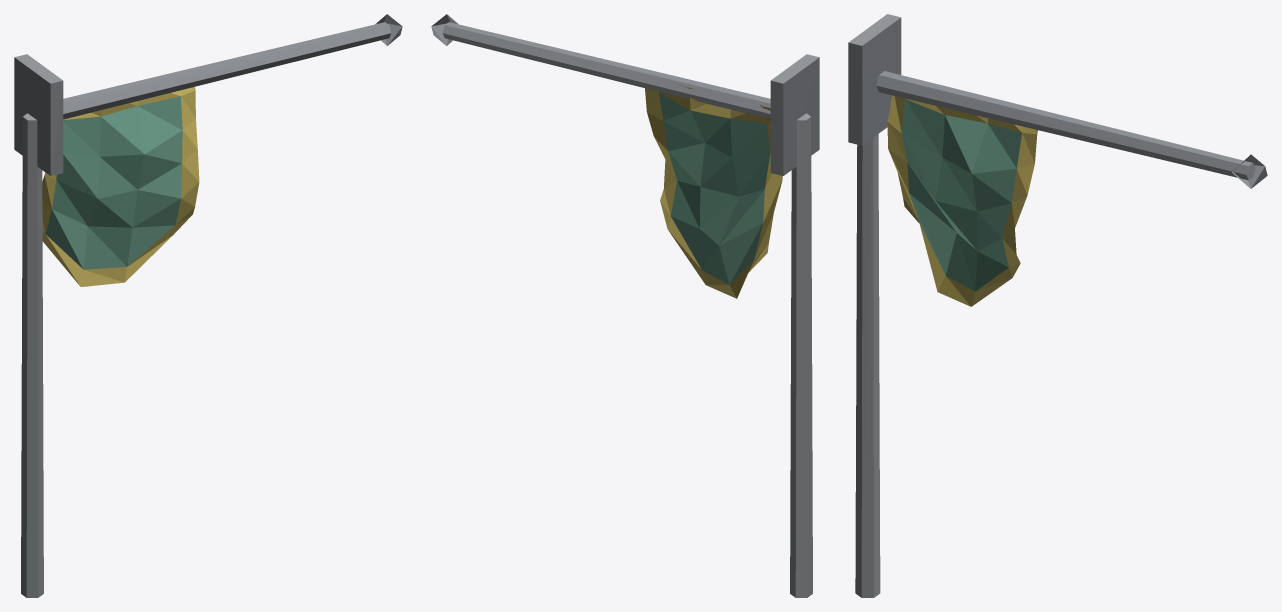
File: flag.roundFly.cuiqi__pole.horizontal.big__armHang.glb
3 renders of one model, left to right at view 1: azimuth 30°, elevation 25°; view 2: azimuth 150°, elevation 25°; view 3: azimuth 330°, elevation 25°, orthographic. The views are drawn at different scales.
Parts seen in each view (by area): view 1: flag.roundFly.cuiqi; view 2: flag.roundFly.cuiqi; view 3: flag.roundFly.cuiqi.
Boxes of the visible parts, x1,y1,x2,y2 form: flag.roundFly.cuiqi: (14,14,402,597); flag.roundFly.cuiqi: (431,14,819,597); flag.roundFly.cuiqi: (848,14,1267,597).
Bounding box in the file's own units: 2.66 × 3.51 × 0.4779.
